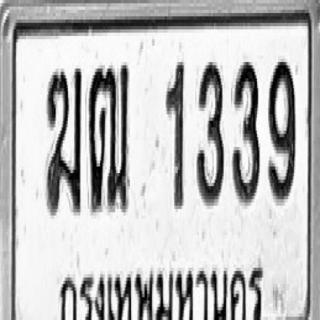A06: (45, 65, 81, 216)
A18: (88, 62, 130, 212)
N01: (166, 59, 184, 209)
N03: (231, 57, 260, 204), (195, 59, 224, 206)
N09: (268, 59, 295, 202)
P04: (56, 255, 265, 320)
